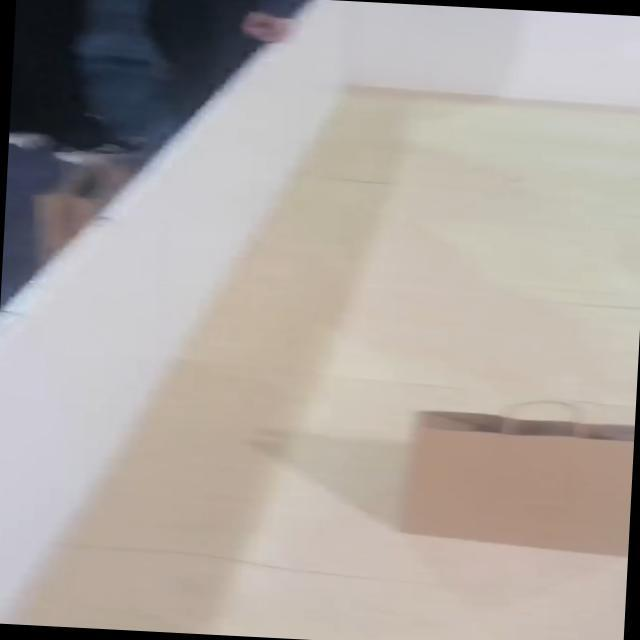Kardus: (400, 406, 635, 557)
